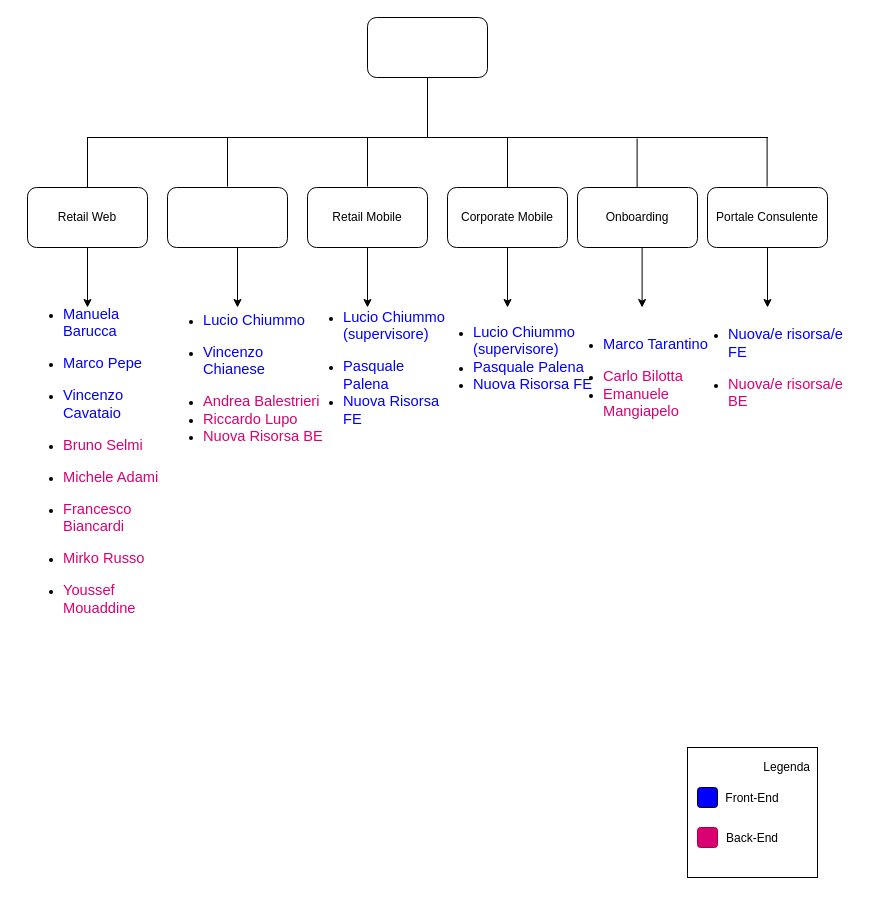
Some shapes in this 869 by 903 pixel diagram are drawn without their labels. Here are the shapes that lost their labels. From the top down, the centre of each, then its label:
At (x=427, y=47): "Nova".
At (x=227, y=217): "Corporate Web".
